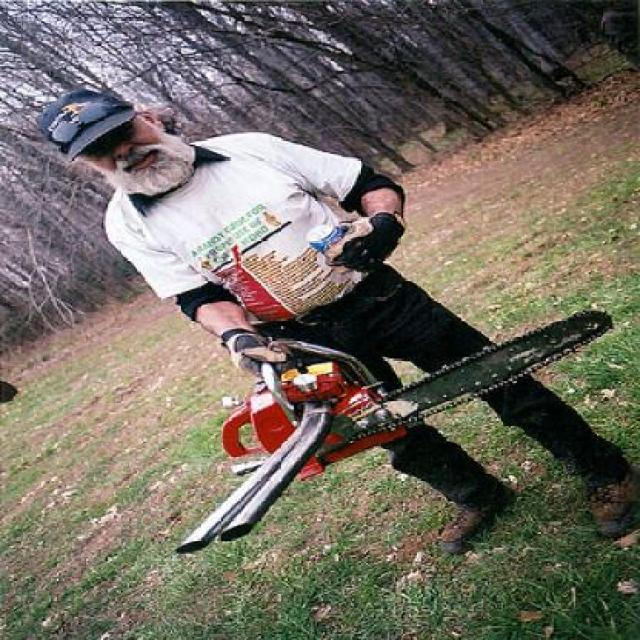Chainsaw: (181, 308, 617, 549)
